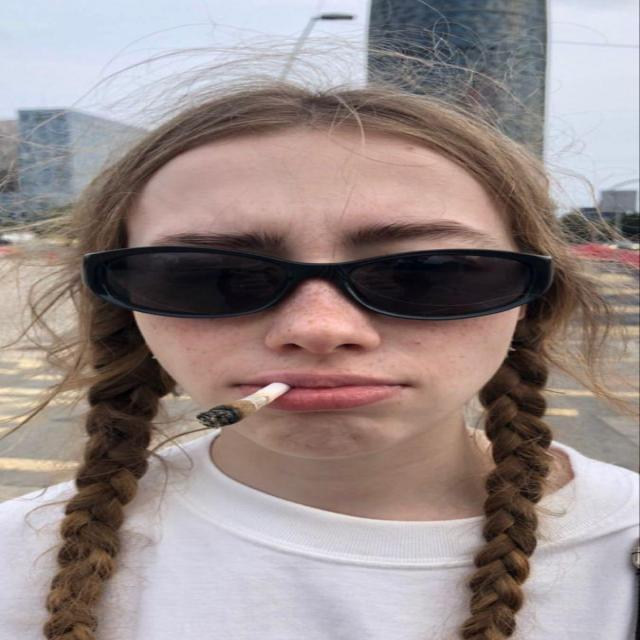cigarette: (145, 384, 331, 448)
